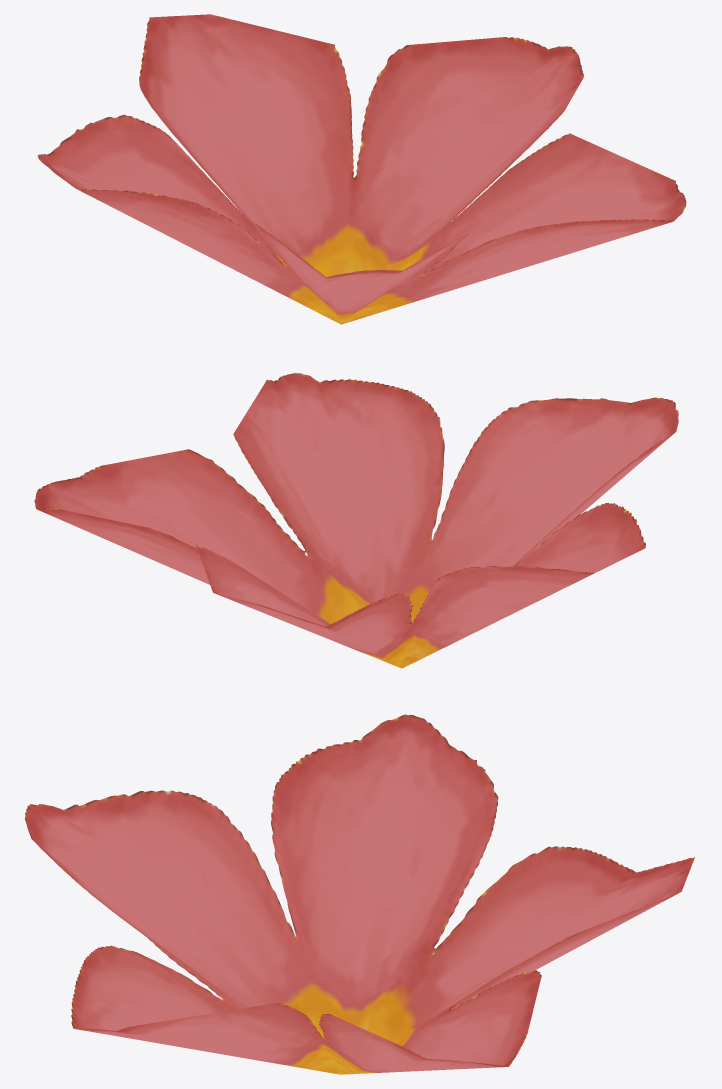
Rendered from petal_5.gltf.
3 views of the same model, one above another, from view 1: azimuth 30°, elevation 25°; view 2: azimuth 150°, elevation 25°; view 3: azimuth 270°, elevation 25° (orthographic). The views are drawn at different scales.
Parts seen in each view (by area): view 1: petal_5; view 2: petal_5; view 3: petal_5.
Part boxes in pixels (box(x1,y1,x2,y2)): petal_5: box(37, 14, 686, 324); petal_5: box(34, 373, 678, 668); petal_5: box(25, 714, 694, 1074).
Size of the model in its own units: 0.834 by 0.2888 by 0.7952.
1 material, 1 textured.
